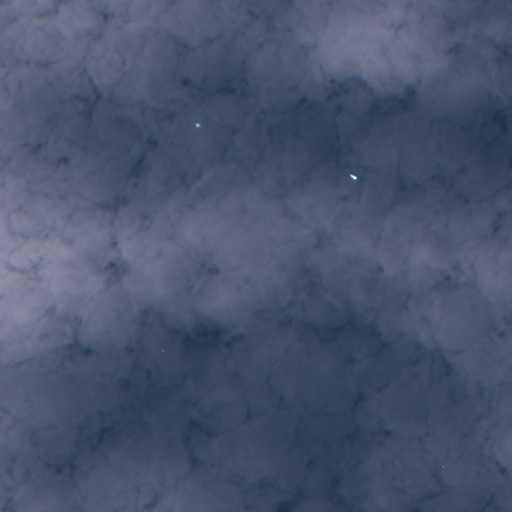Iceberg: (350, 174, 356, 179), (195, 123, 200, 127), (162, 350, 163, 351), (442, 466, 443, 467)
